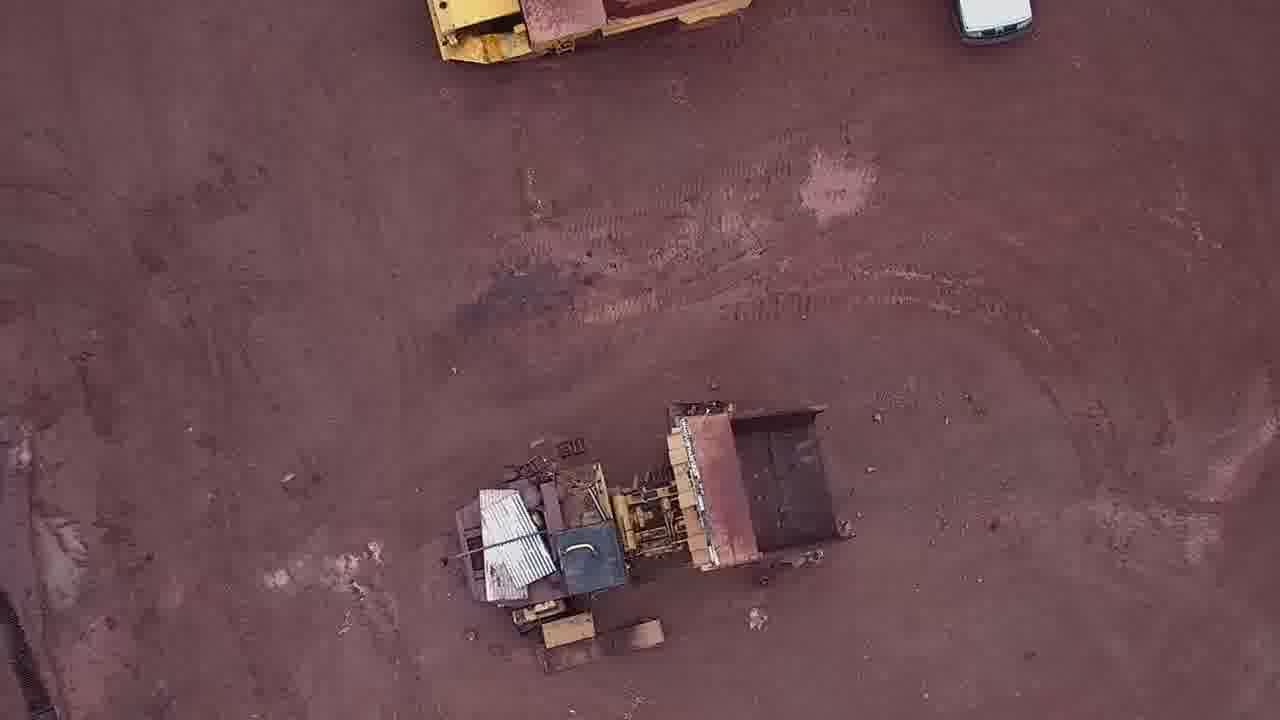heavy_motor_vehicle: (452, 400, 856, 676)
